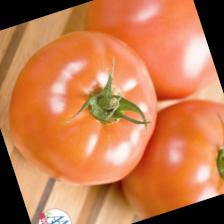tomato: (0, 13, 178, 209), (78, 0, 221, 119), (103, 86, 224, 221)
